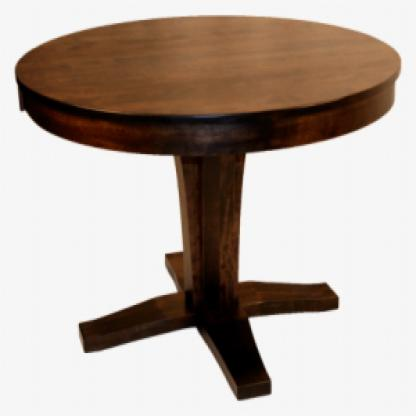table: (12, 15, 401, 403)
